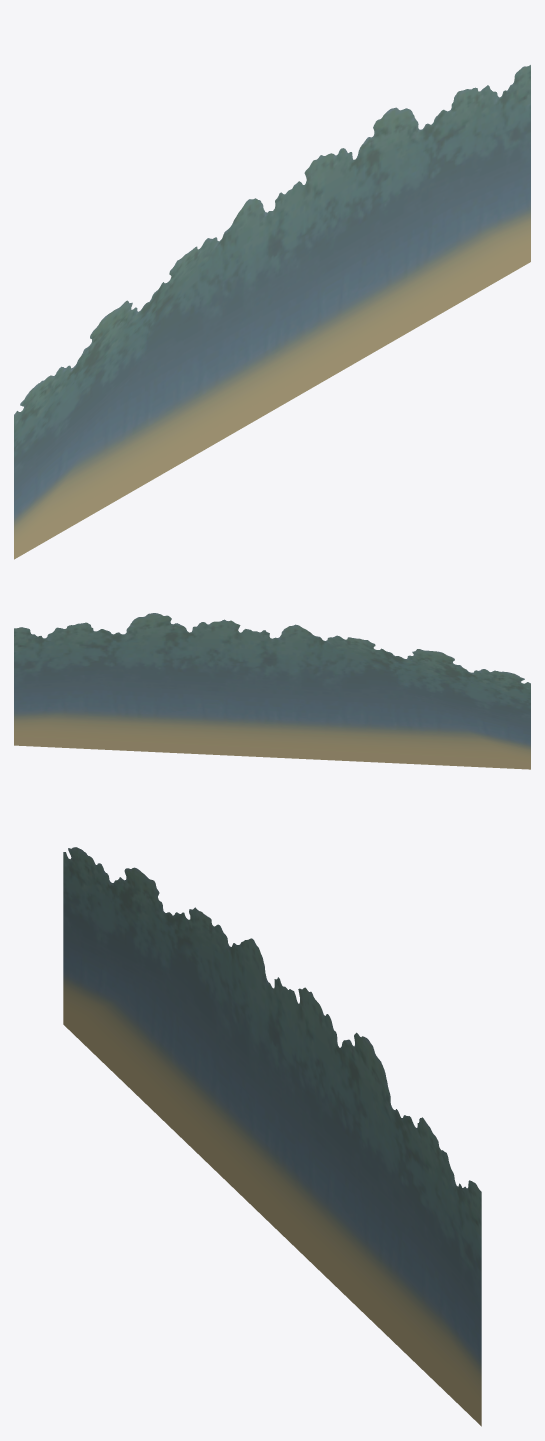
Rendered from sucai_26.FBX.
3 renders of one model, top to bottom at view 1: azimuth 30°, elevation 25°; view 2: azimuth 150°, elevation 25°; view 3: azimuth 270°, elevation 25°, orthographic. The views are drawn at different scales.
Visible parts, largest first — view 1: sucai_26; view 2: sucai_26; view 3: sucai_26.
Boxes of the visible parts, x1,y1,x2,y2 form: sucai_26: [14, 65, 530, 559]; sucai_26: [14, 613, 530, 769]; sucai_26: [63, 847, 481, 1426].
Bounding box in the file's own units: 77.53 × 34.08 × 30.1.
